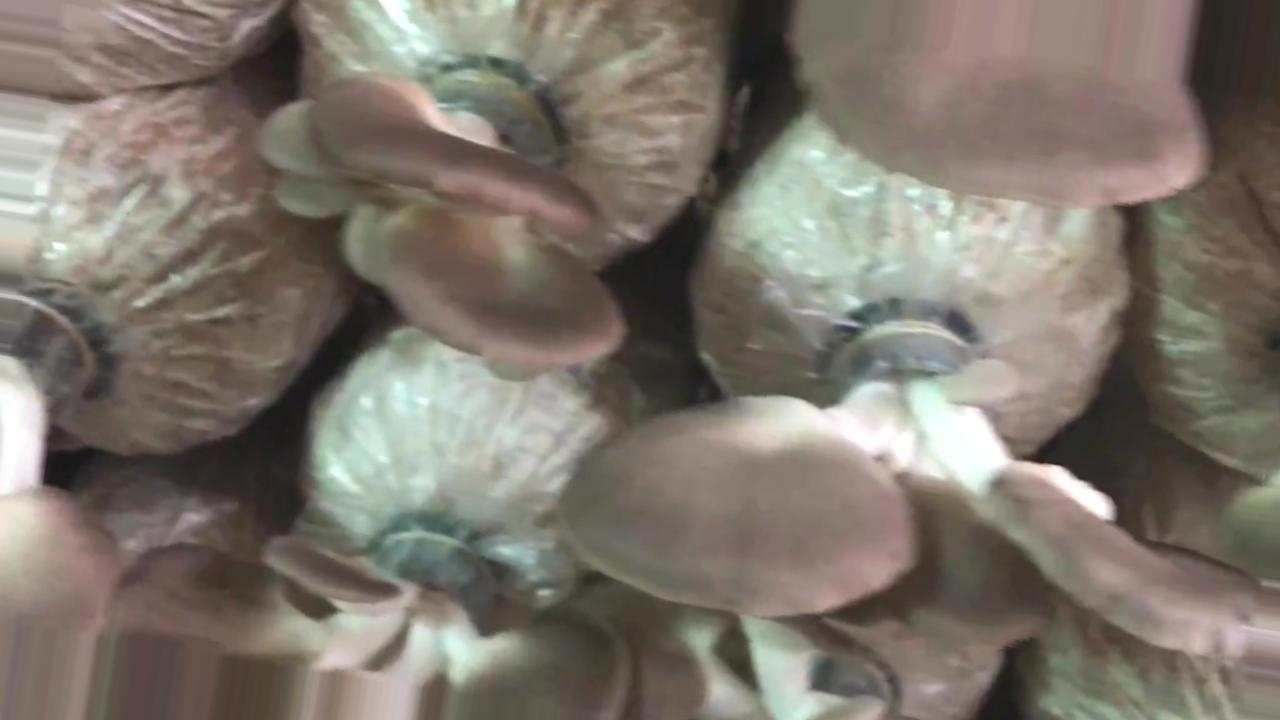nam: (552, 306, 1280, 655), (252, 75, 630, 380), (803, 4, 1216, 211), (73, 537, 642, 674)
